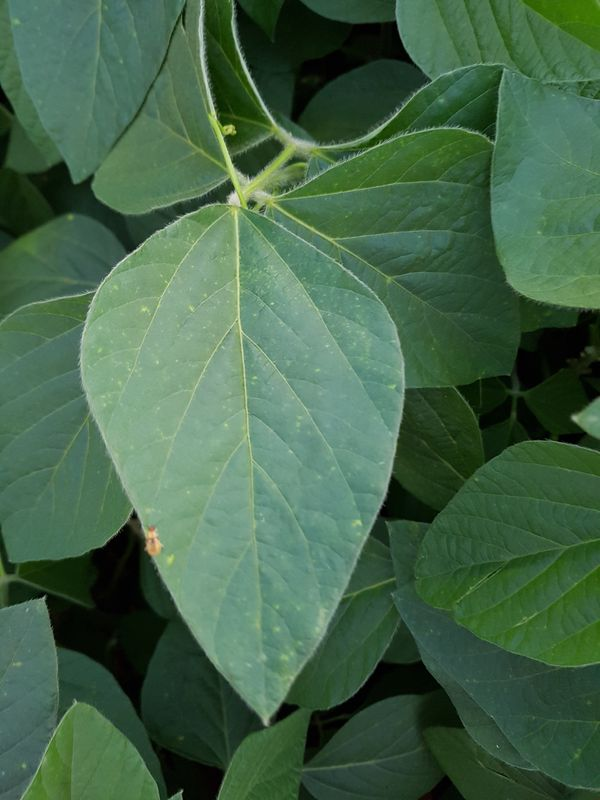Diabrotica_speciosa: (132, 522, 171, 560)
